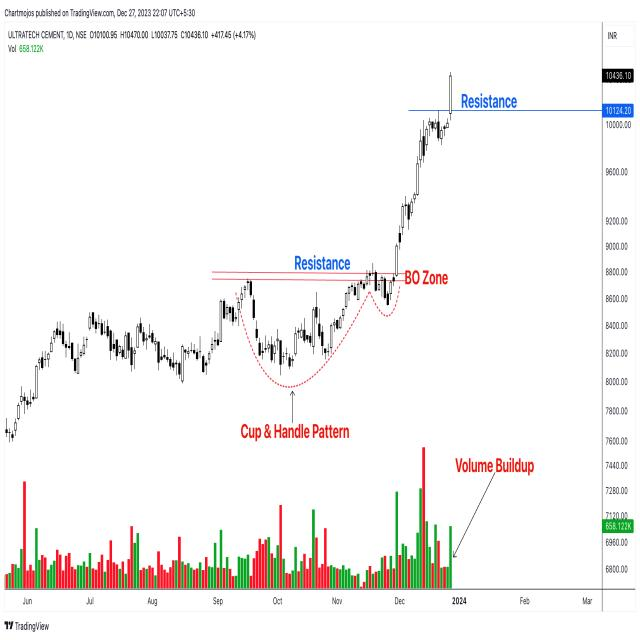Cup-and-handle: (243, 277, 403, 389)
